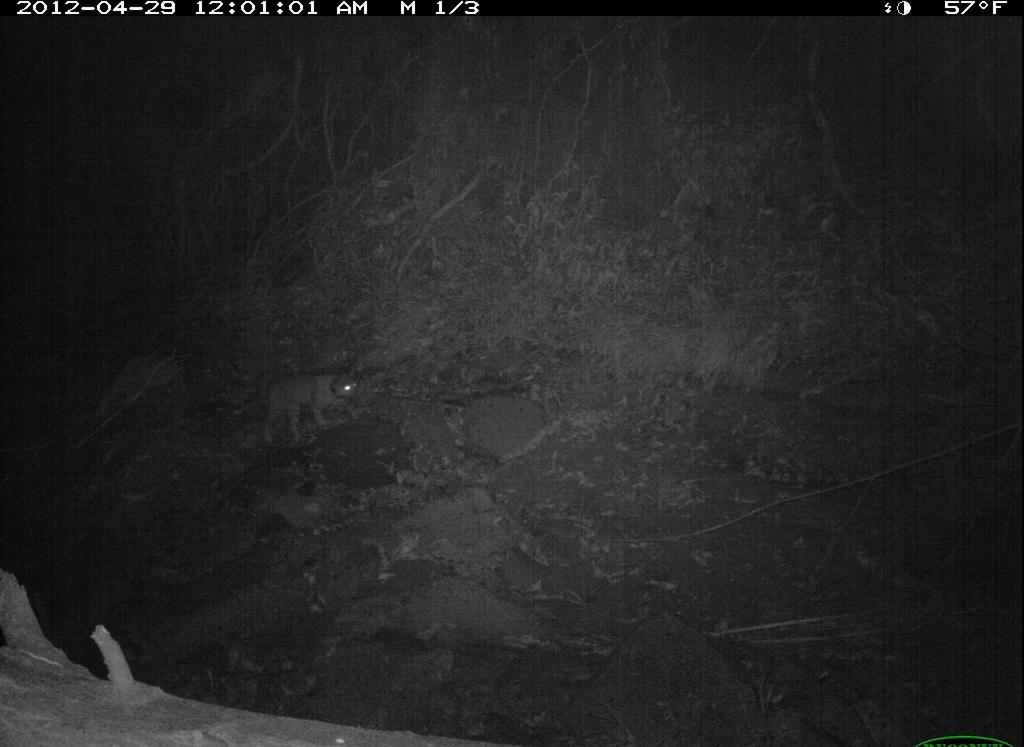bobcat: (233, 355, 374, 456)
